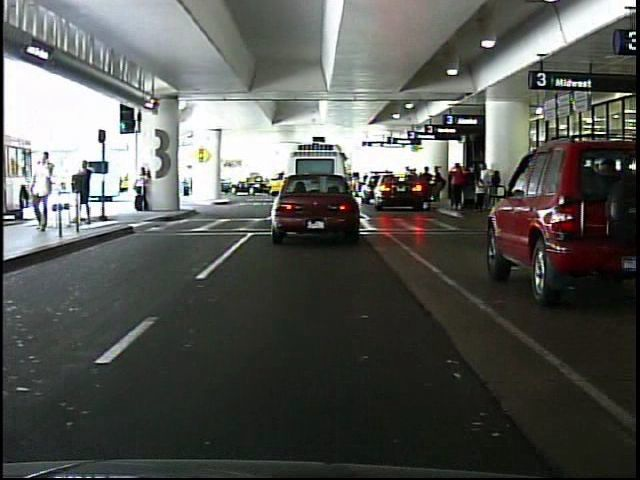person: (28, 149, 58, 236), (72, 156, 94, 226), (134, 163, 154, 212), (180, 162, 201, 203), (450, 162, 466, 210)
